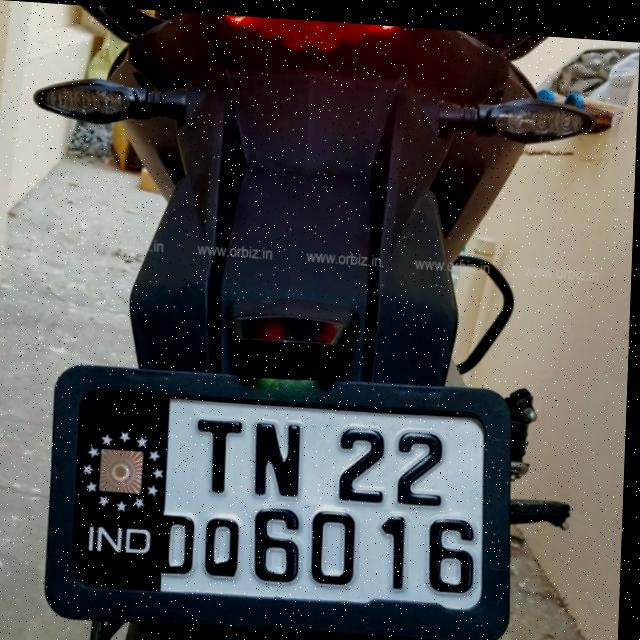plate: (39, 352, 523, 640)
